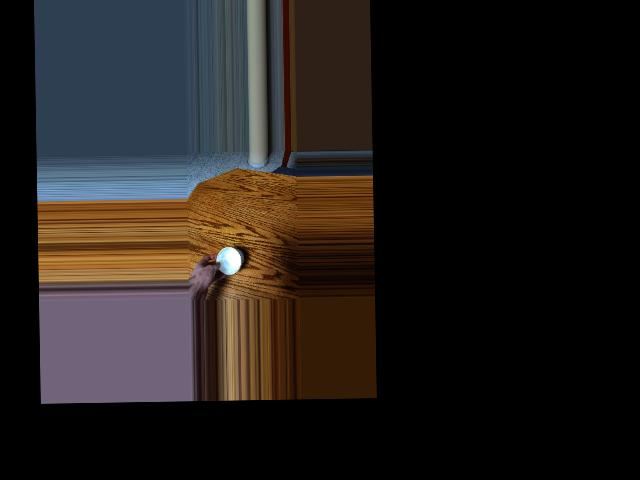cotage: (215, 242, 245, 274)
